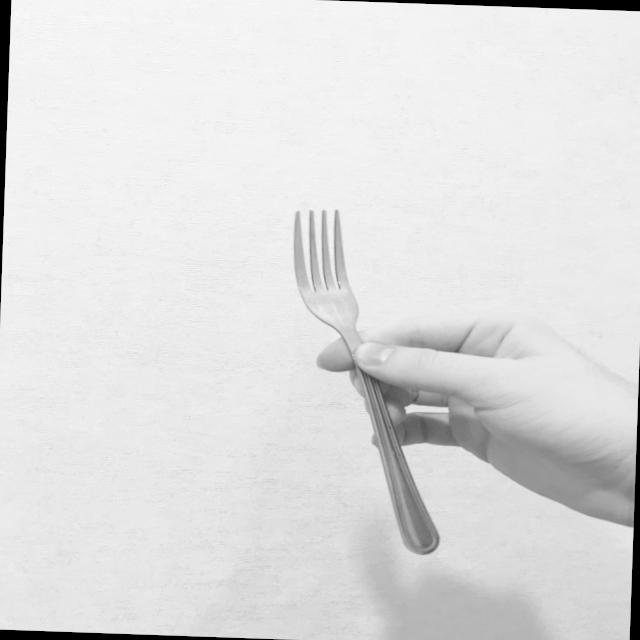fork: (279, 204, 454, 558)
